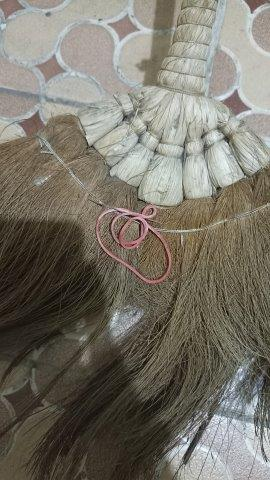karet: (96, 204, 172, 284)
